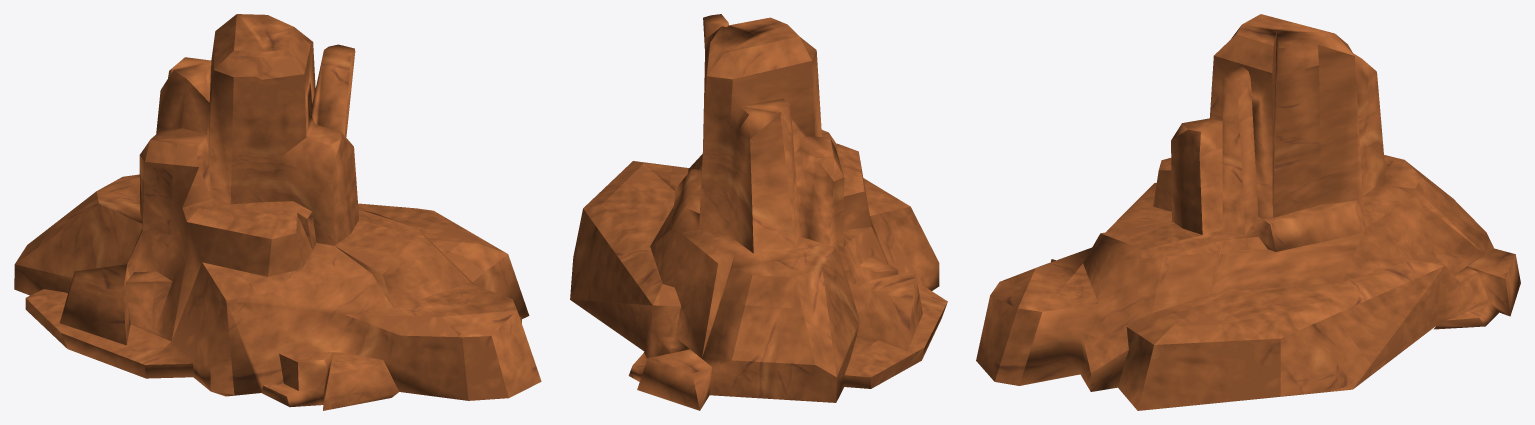
File: rock11.fbx
The picture shows the model from 3 angles, left to right: view 1: azimuth 30°, elevation 25°; view 2: azimuth 150°, elevation 25°; view 3: azimuth 270°, elevation 25°; orthographic projection. The views are drawn at different scales.
Visible parts, largest first — view 1: 11; view 2: 11; view 3: 11.
Boxes of the visible parts, <box> form: 11: <box>14,14,541,410</box>; 11: <box>570,14,947,410</box>; 11: <box>976,14,1520,410</box>.
Size of the model in its own units: 72.24 by 50.77 by 87.63.
Materials: 1 (1 with a texture image).
